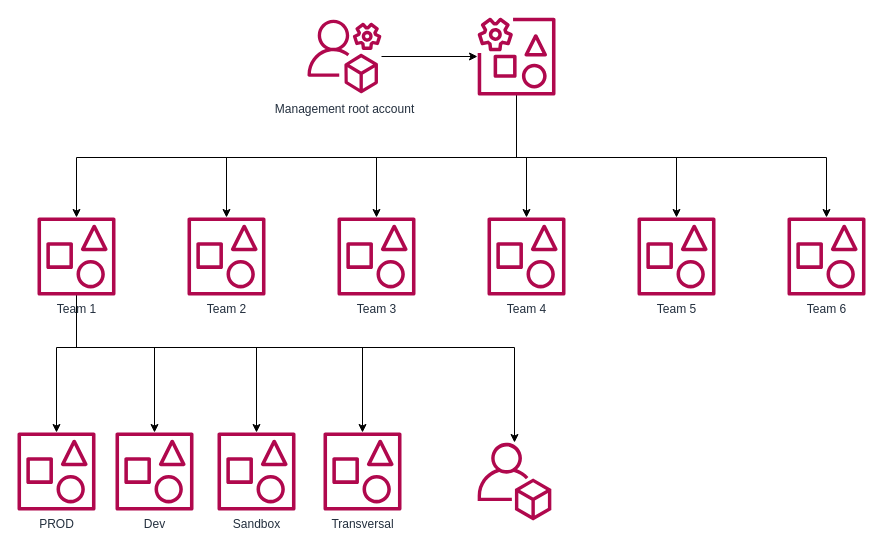
Some shapes in this 882 by 558 pixel diagram are drawn without their labels. The shapes that lost their labels are listed below. From the top down, each one's centre as x and y in pixels, then its label:
At point 516,56: "Organizations Management Account".
At point 514,481: "UPC Team 1".
